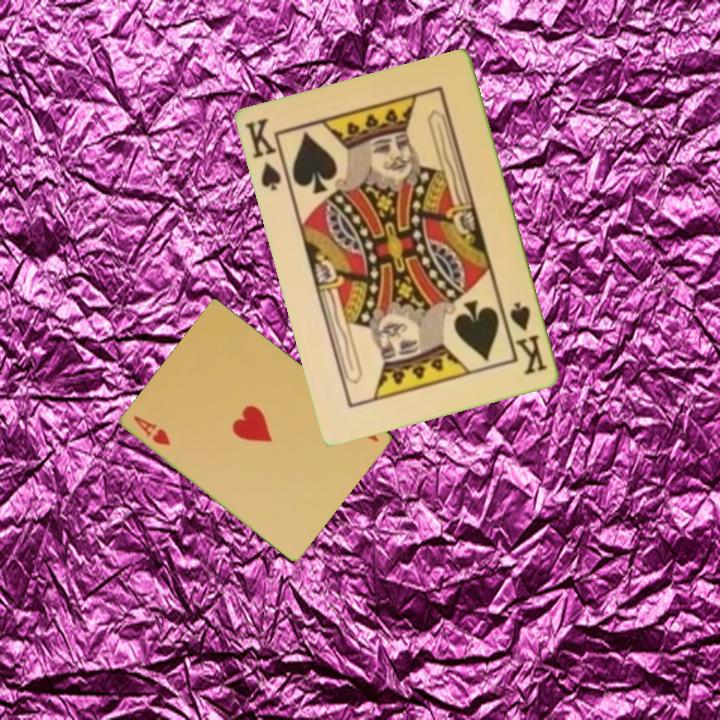Ah: (130, 412, 174, 449)
Ks: (242, 115, 293, 194), (506, 299, 552, 378)
